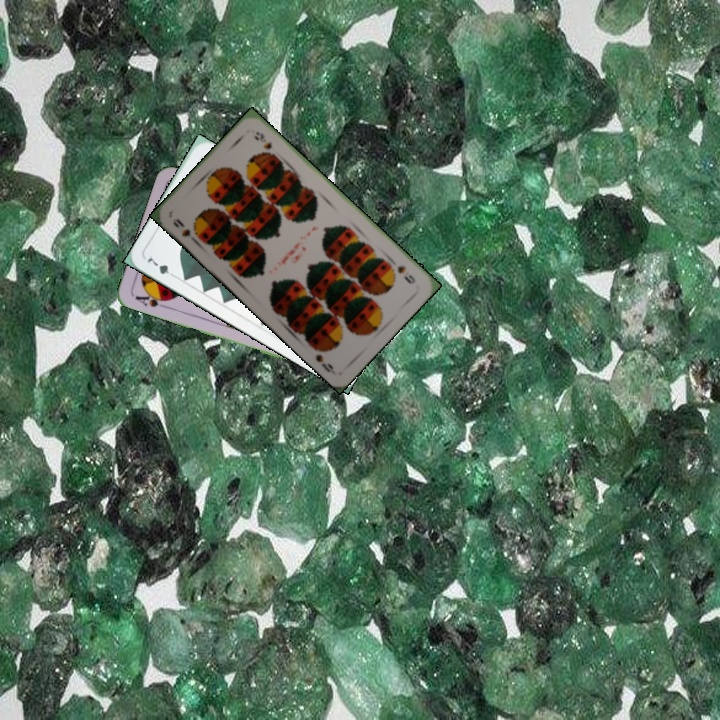G7: (143, 251, 179, 281)
S9: (169, 215, 200, 246), (393, 262, 418, 287)
SA: (131, 288, 172, 311)
